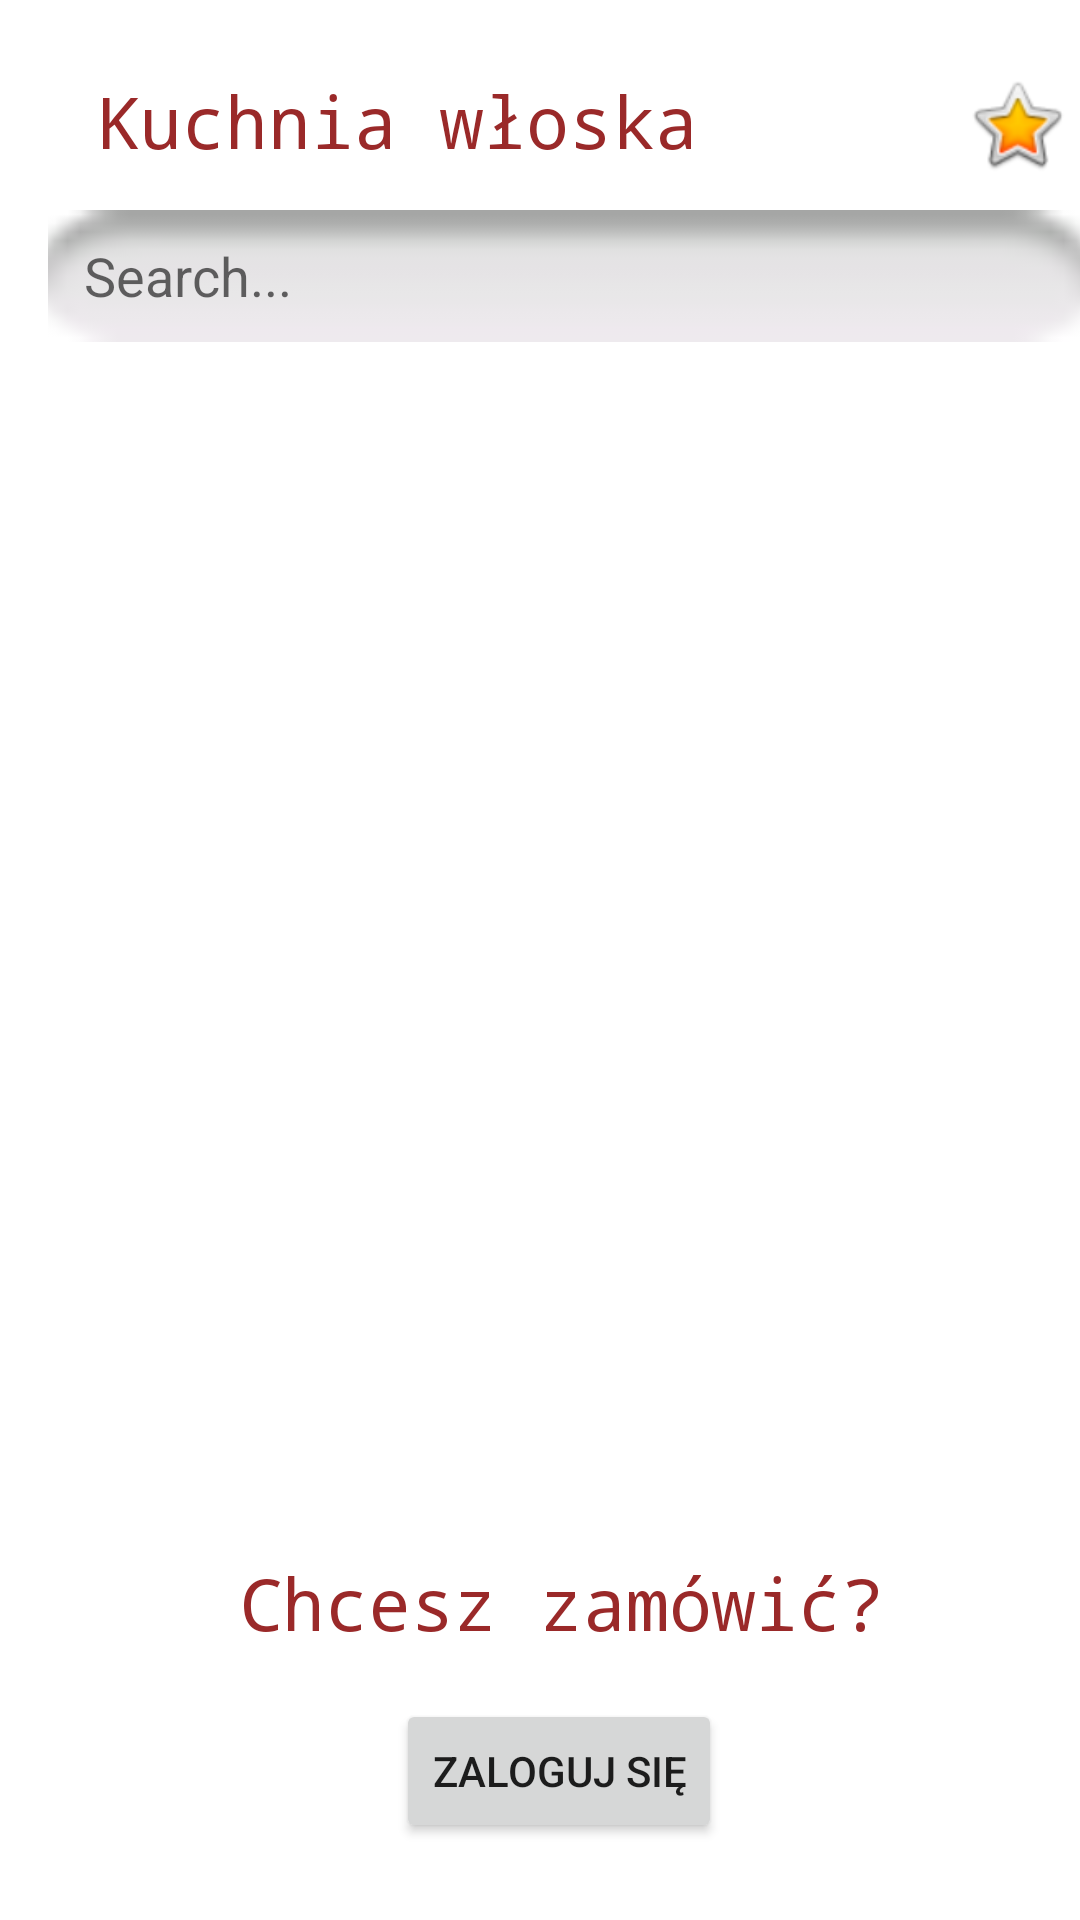

Named icons in this screenshot (1080×1920) and their centers, (x=x, y=y):
star on: (x=1018, y=125)
